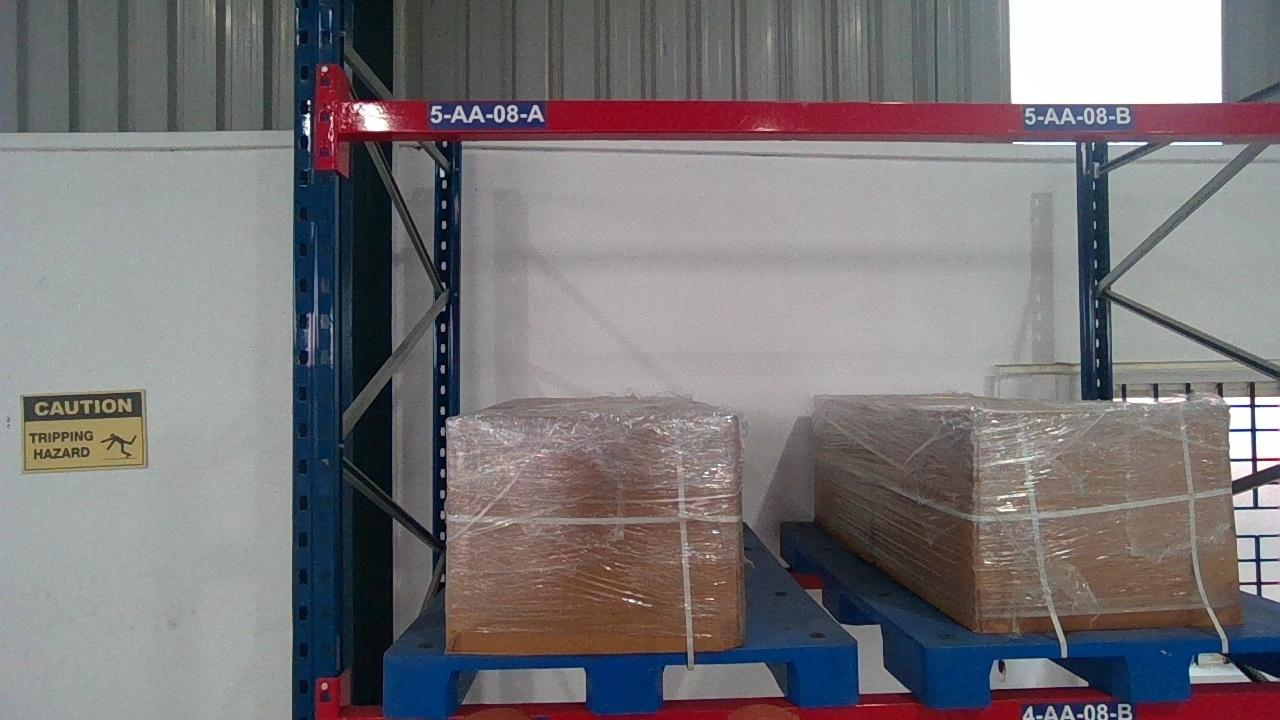h_rack: (340, 99, 1275, 134), (276, 695, 1278, 719)
small_pallet: (381, 646, 862, 714), (927, 638, 1278, 697)
